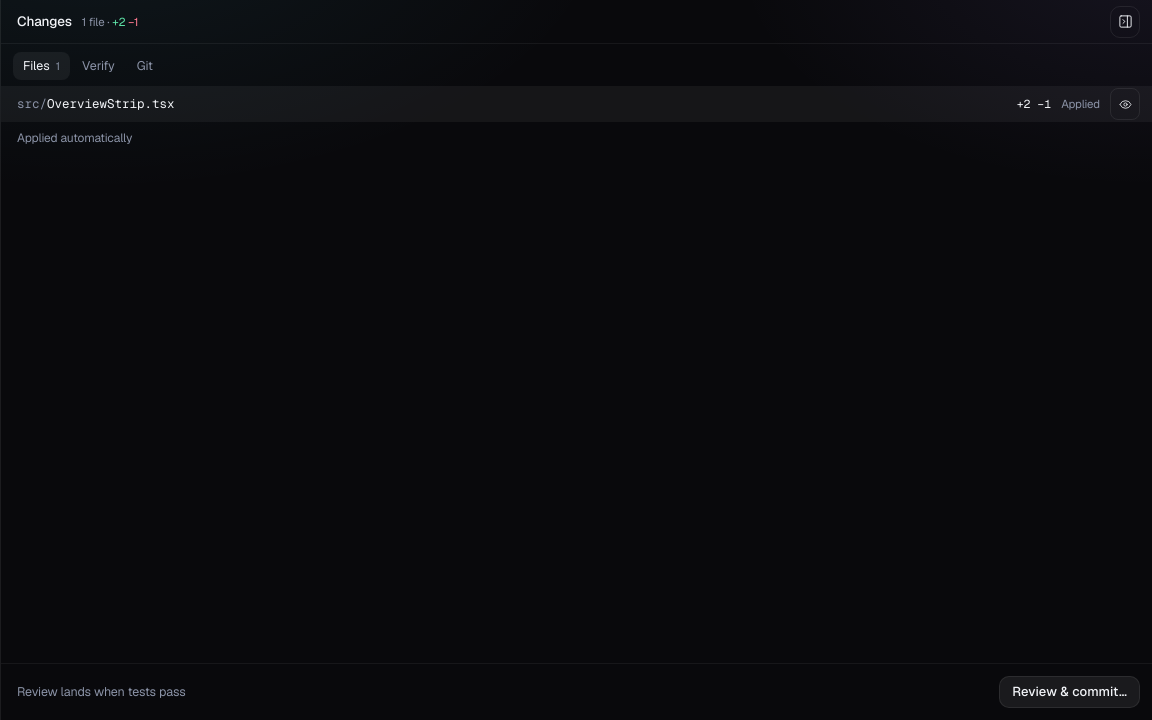
Test: ChangesDock — tabs › switching to the Verify tab hides file rows and shows verify rows
Click the tab "Verify". click: x=98, y=66
box: x1=72 y1=52 x2=125 y2=80
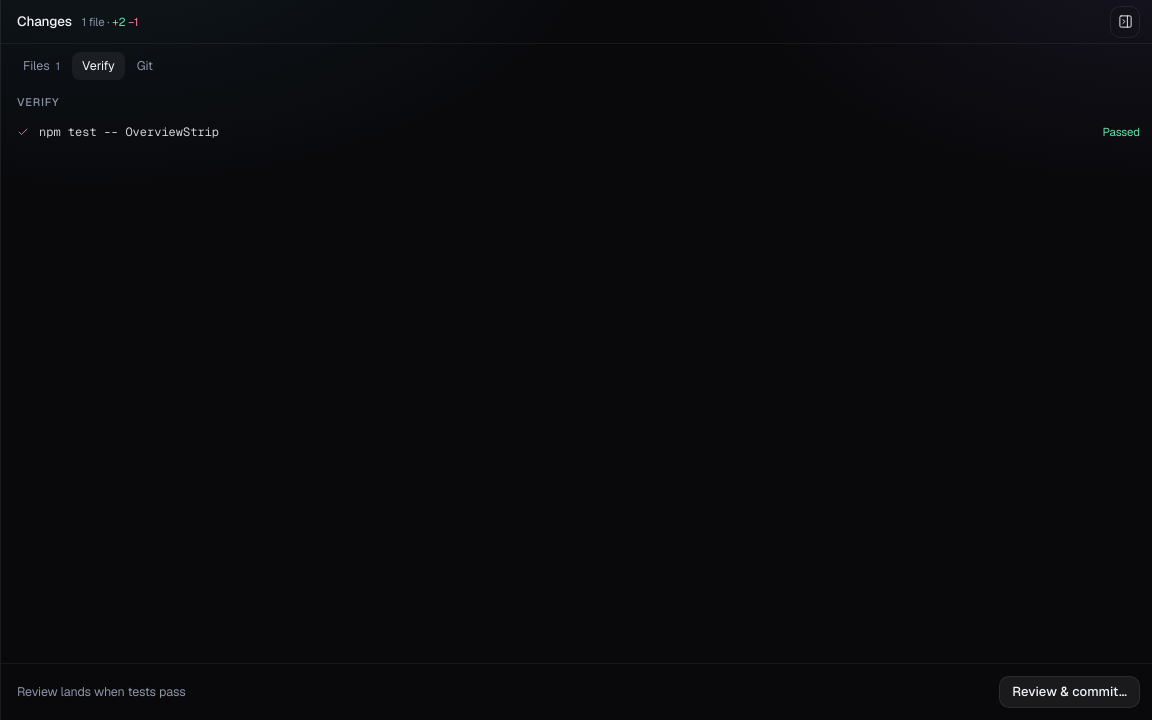
Expected: the text "npm test -- OverviewStrip" is shown, x1=39 y1=122 x2=219 y2=140
